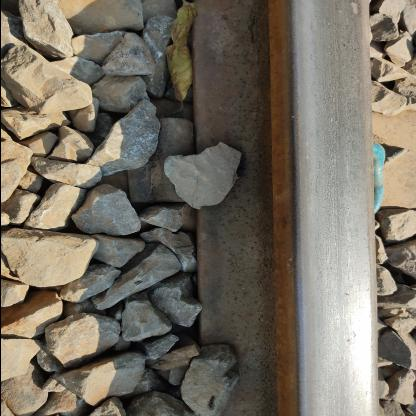Defective: (86, 67, 234, 230)
